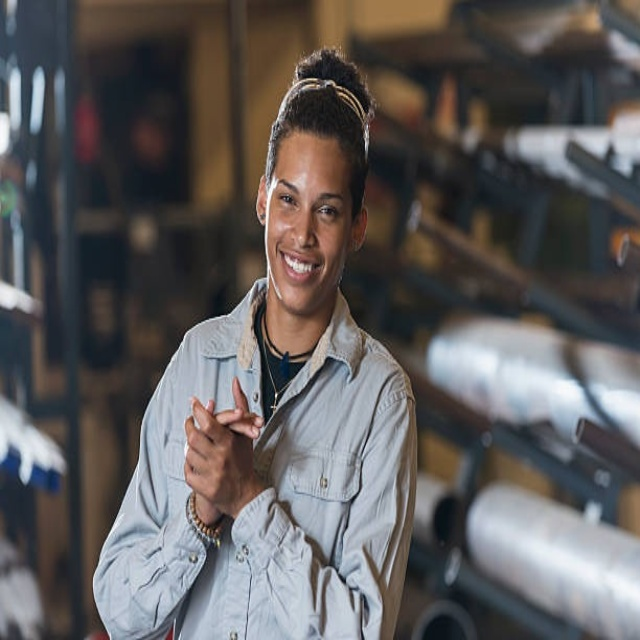Sin_gafas: (272, 169, 348, 229)
Sin_guantes: (182, 376, 264, 515)
Sin_mascara: (276, 240, 326, 303)
